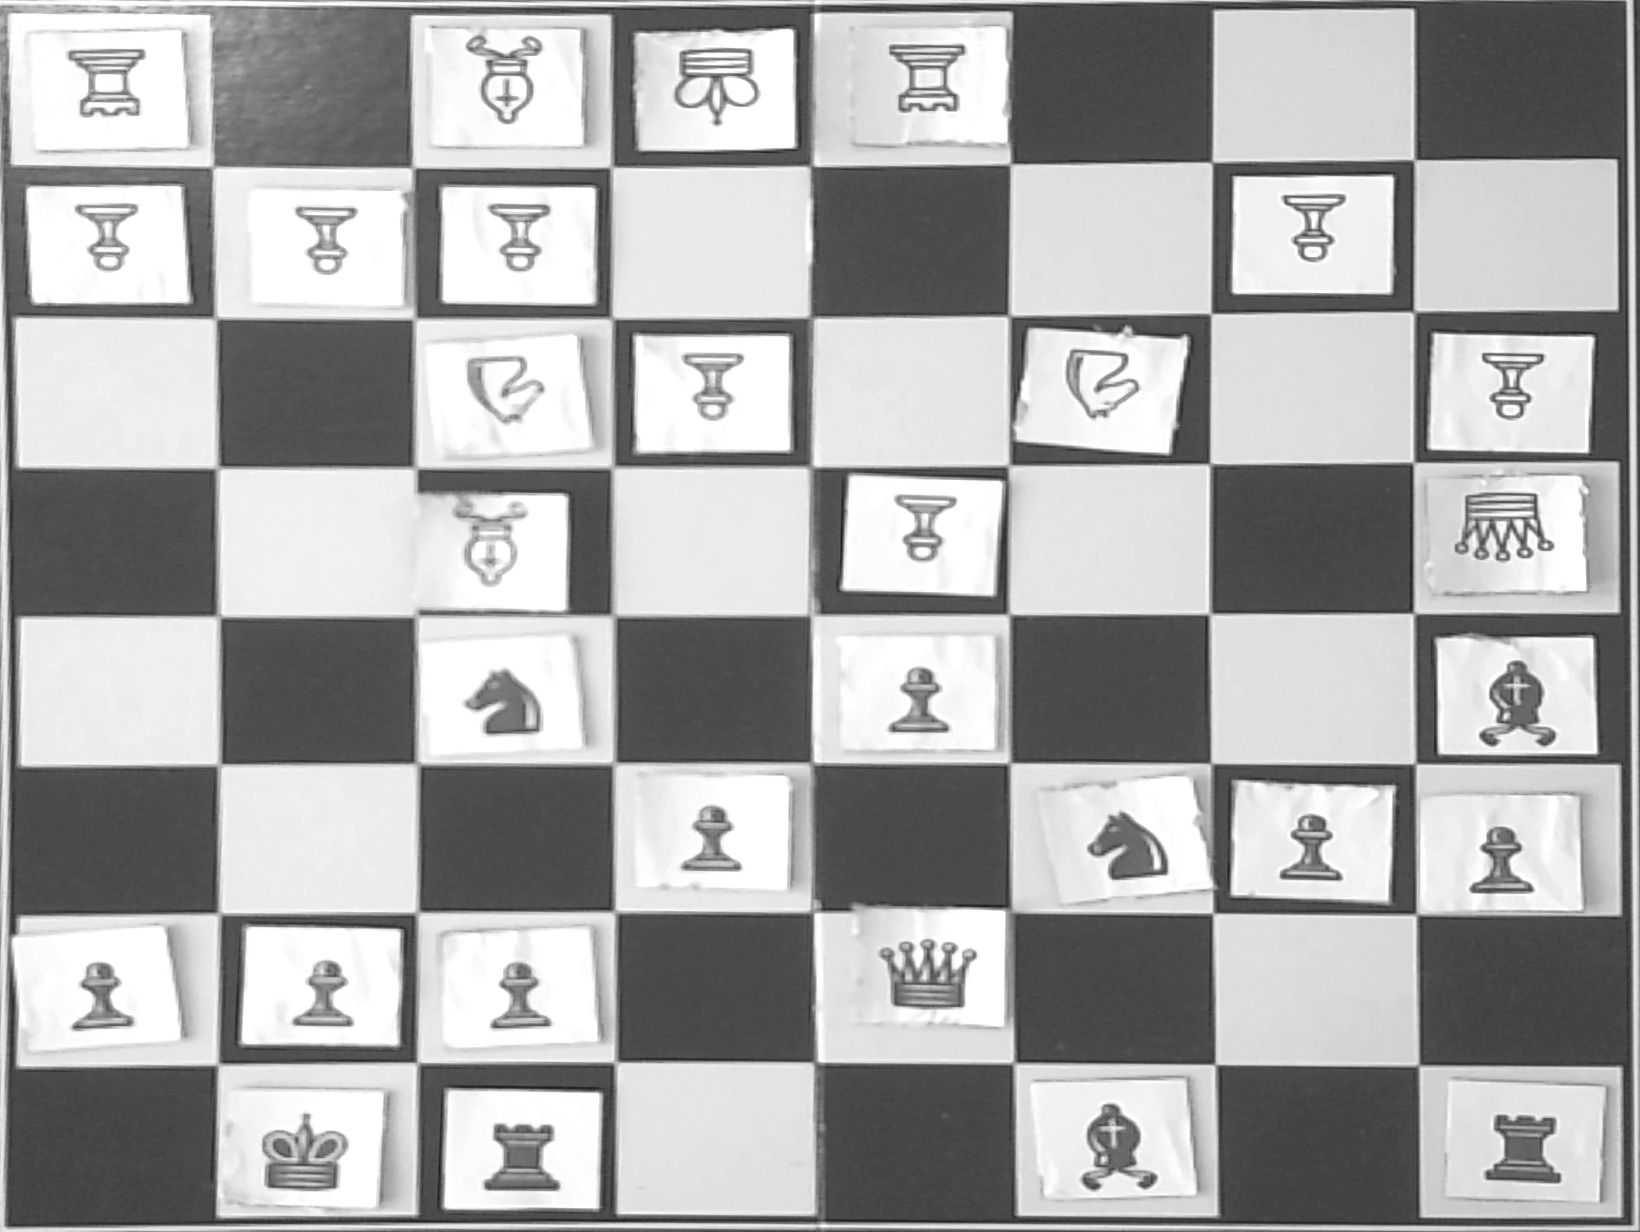b_bishop: (1442, 635, 1586, 754), (1048, 1081, 1192, 1198)
b_king: (245, 1096, 384, 1206)
b_knight: (1063, 791, 1193, 894), (434, 647, 563, 751)
b_pawn: (465, 937, 582, 1042), (1256, 789, 1372, 894), (652, 780, 769, 884)
b_queen: (861, 915, 997, 1024)
b_rook: (1460, 1088, 1602, 1194), (460, 1094, 602, 1200)
w_bishop: (448, 31, 577, 148), (432, 492, 560, 608)
w_king: (651, 44, 786, 144)
w_knight: (1028, 336, 1170, 445), (439, 346, 580, 453)
w_pawn: (859, 480, 986, 582), (463, 194, 589, 296)
w_queen: (1439, 484, 1582, 586)
w_rook: (52, 48, 170, 142), (869, 34, 988, 127)
